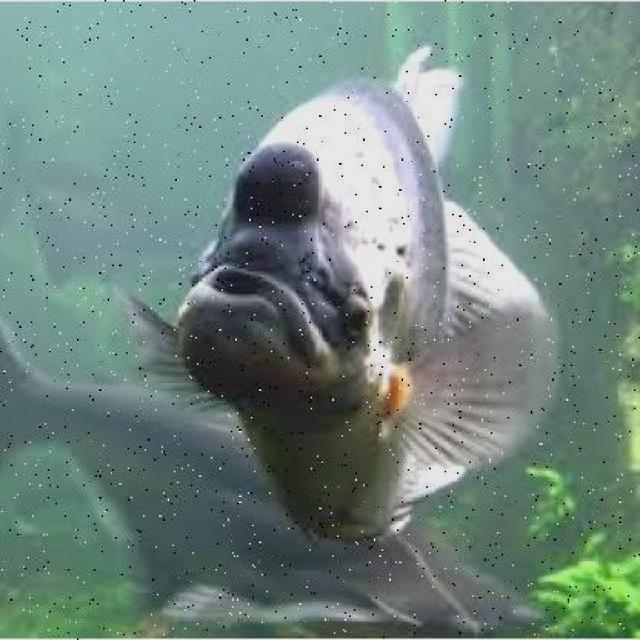gurame: (171, 58, 527, 551)
